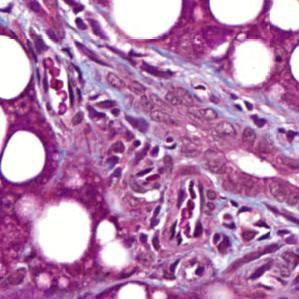steatosis: (3, 126, 46, 184)
